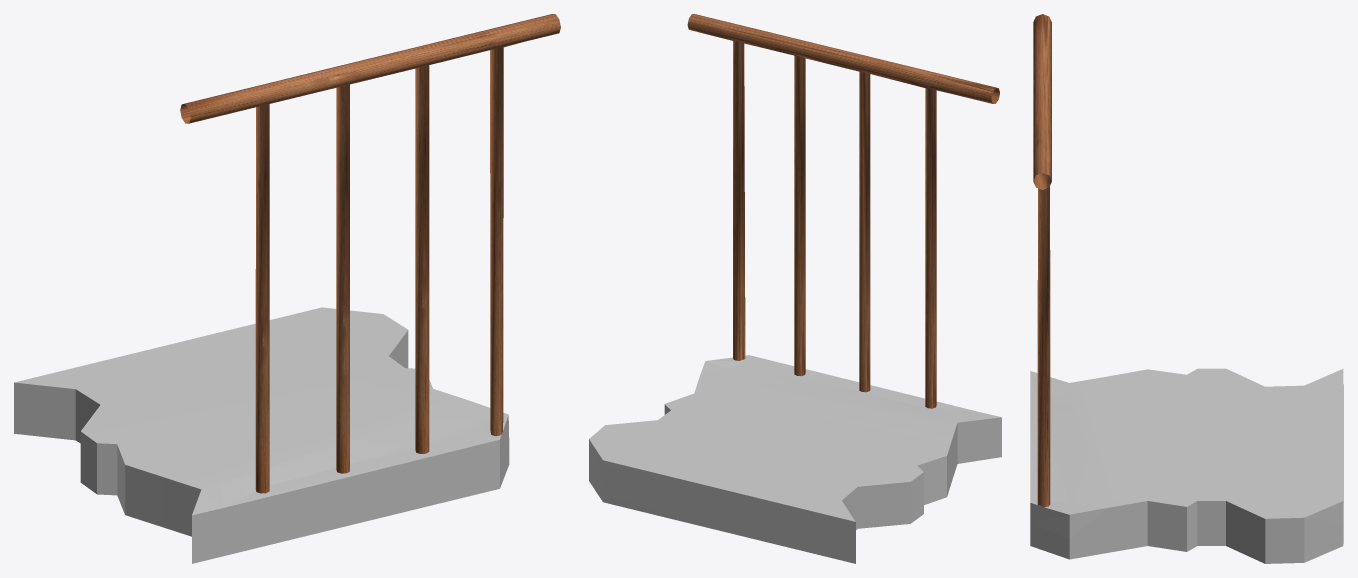
File: balconCentro.FBX
3 renders of one model, left to right at view 1: azimuth 30°, elevation 25°; view 2: azimuth 150°, elevation 25°; view 3: azimuth 270°, elevation 25°, orthographic. The views are drawn at different scales.
Visible parts, largest first — view 1: Terraza2; view 2: Terraza2; view 3: Terraza2.
Boxes of the visible parts, left/top/right/bottom form: Terraza2: left=14, top=14, right=560, bottom=563; Terraza2: left=589, top=14, right=1001, bottom=563; Terraza2: left=1030, top=14, right=1343, bottom=563.
Size of the model in its own units: 120 by 141 by 100.
